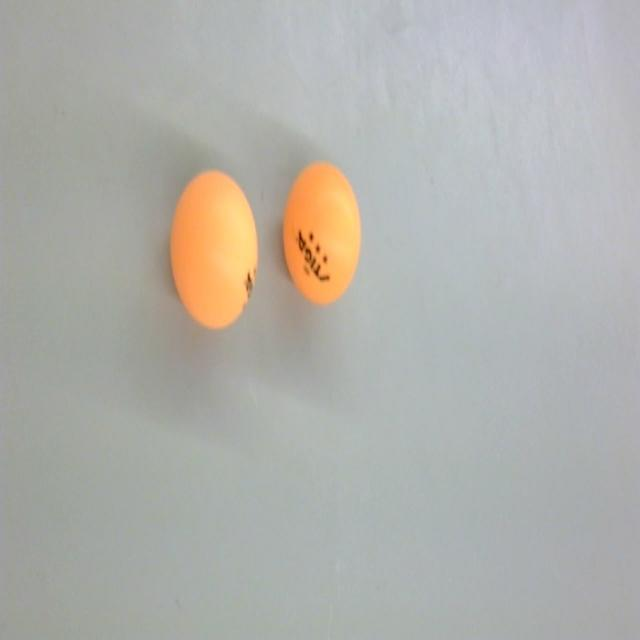ball: (166, 163, 260, 338), (279, 156, 363, 310)
